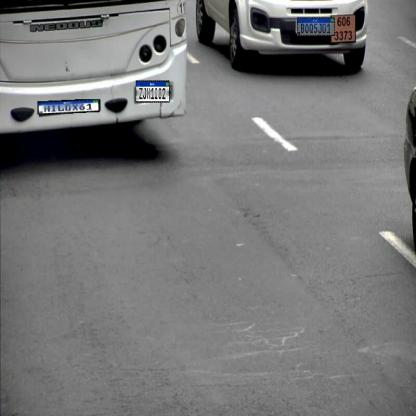PlacaM: (37, 99, 100, 115), (135, 80, 170, 102), (297, 17, 335, 36)
